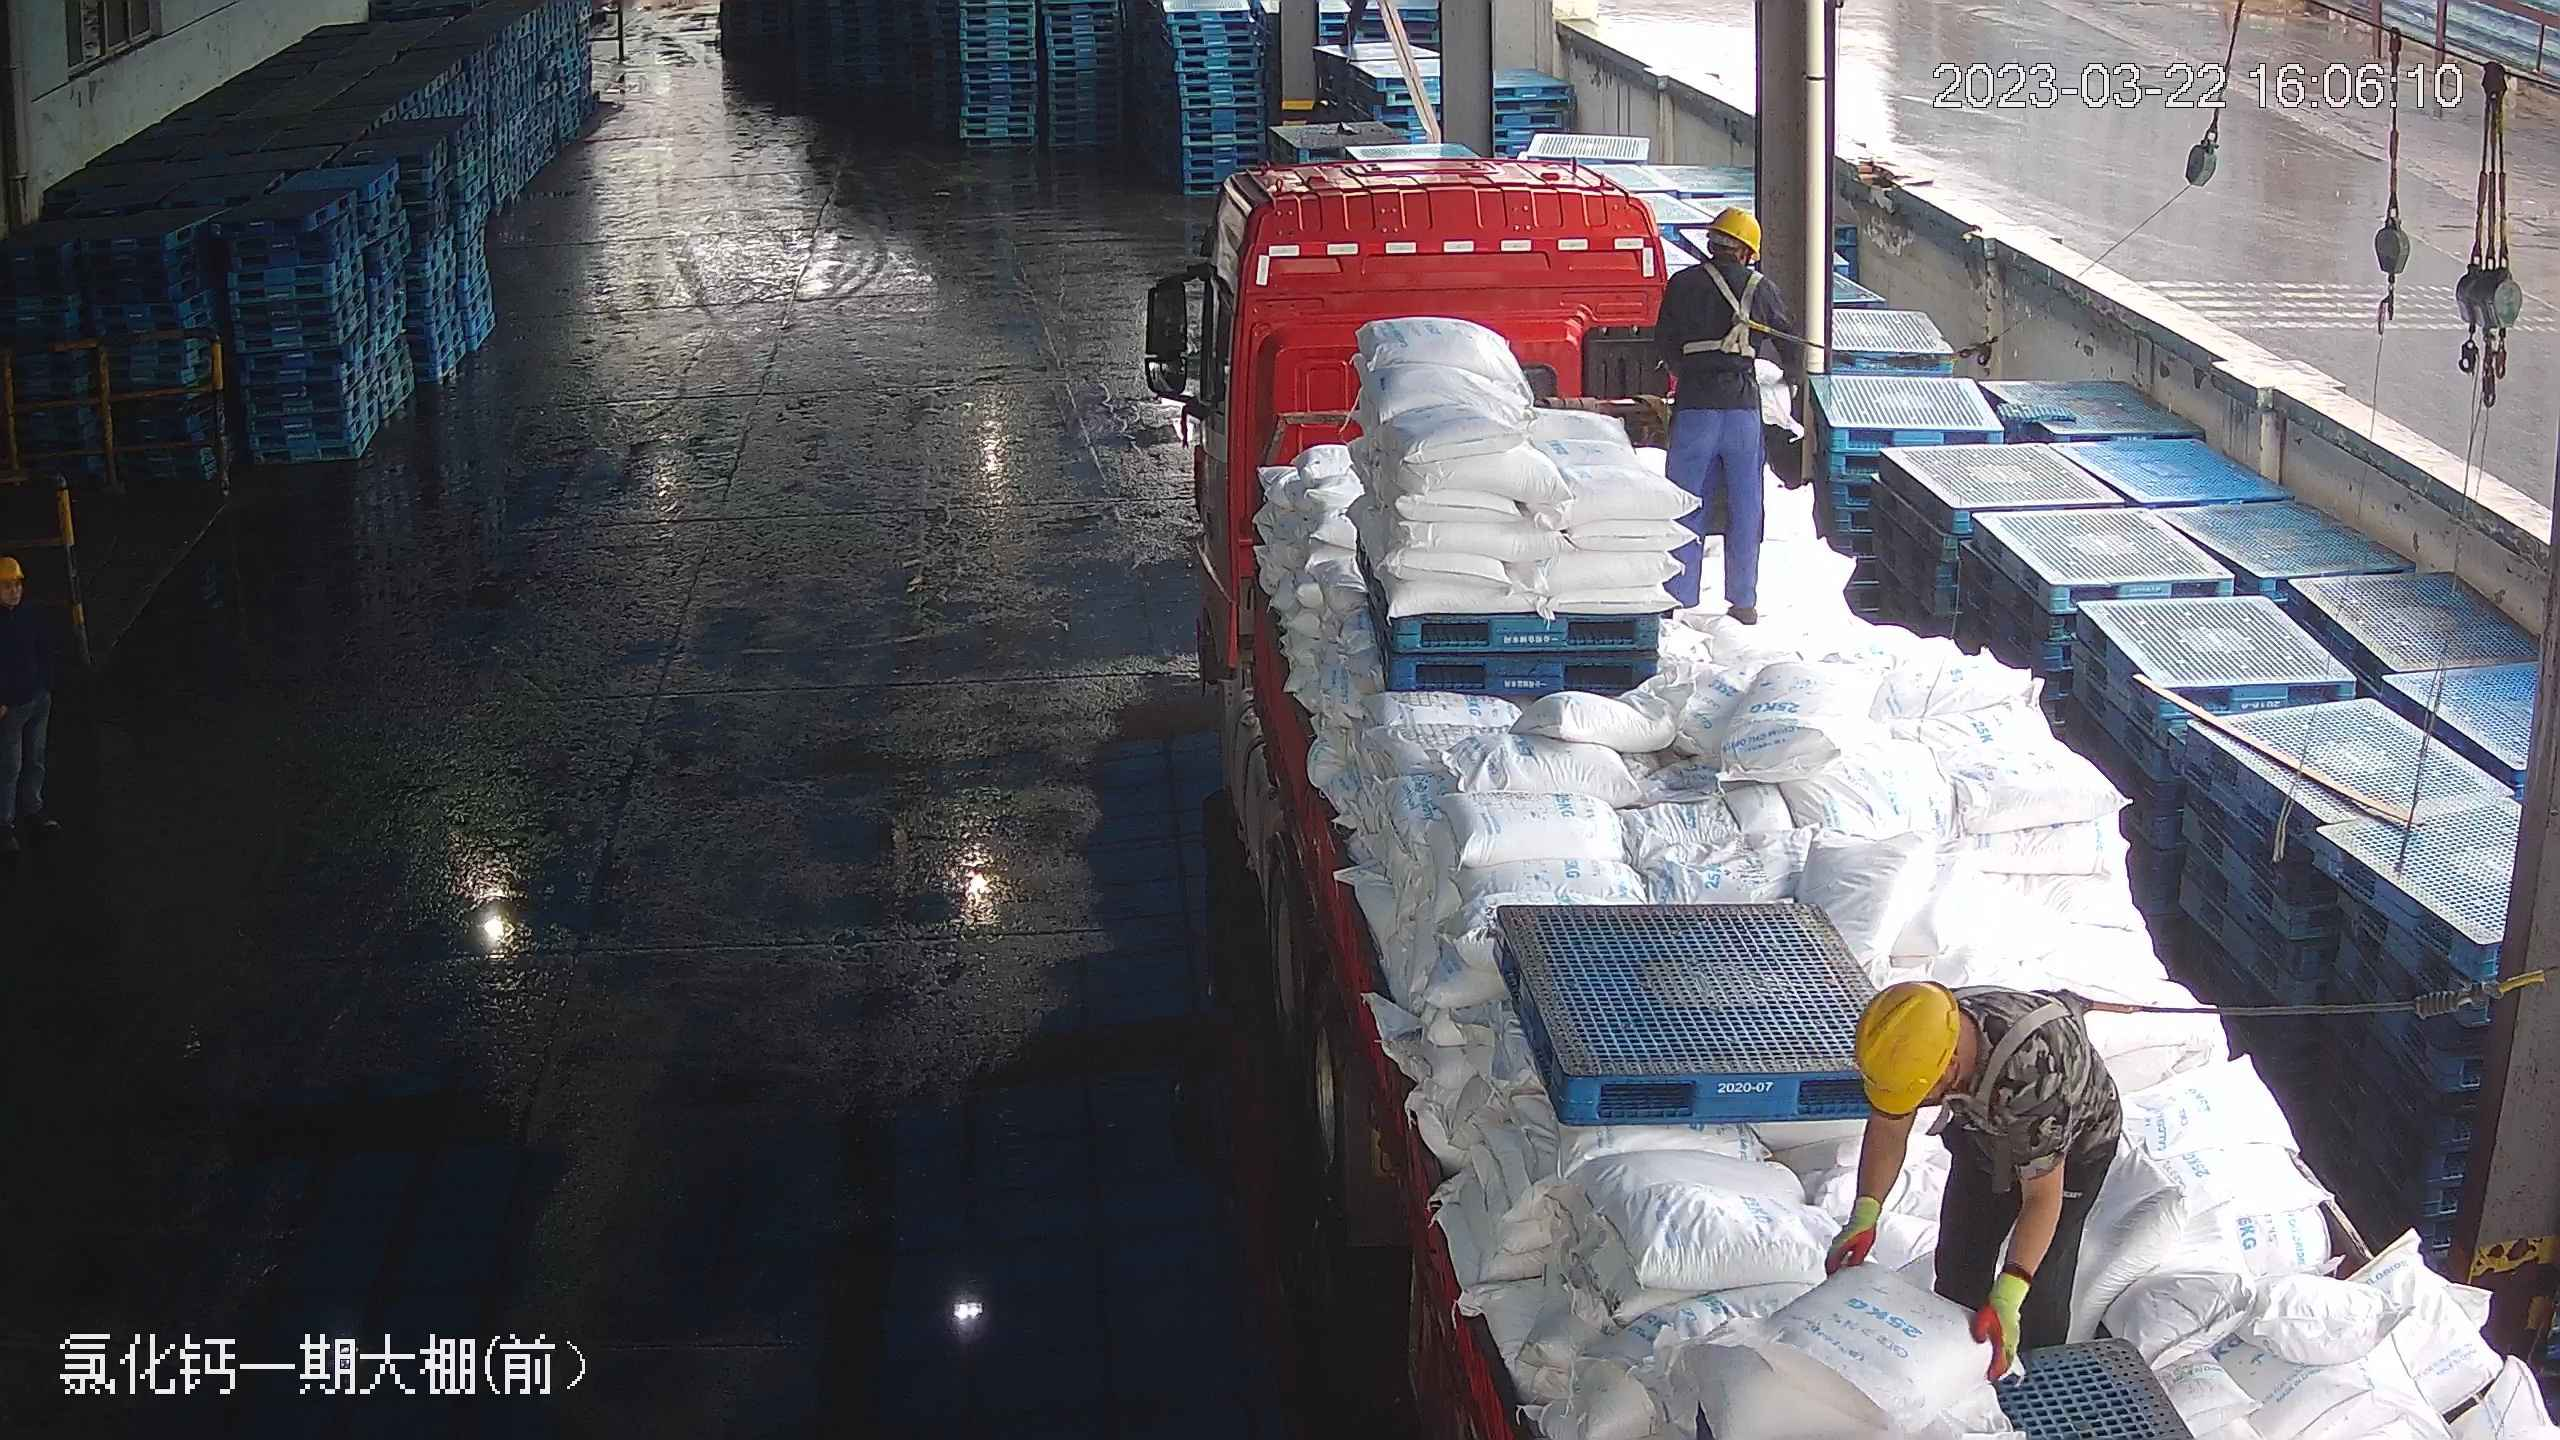belt: (1953, 968, 2099, 1141), (1681, 260, 1771, 361)
head: (1845, 973, 2062, 1152), (1662, 204, 1781, 317)
helmet: (1854, 980, 1962, 1119), (1707, 203, 1762, 252)
people: (1833, 972, 2121, 1379), (1642, 200, 1816, 630)
truck: (1156, 143, 2538, 1433)
